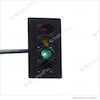green: (42, 45, 63, 71)
